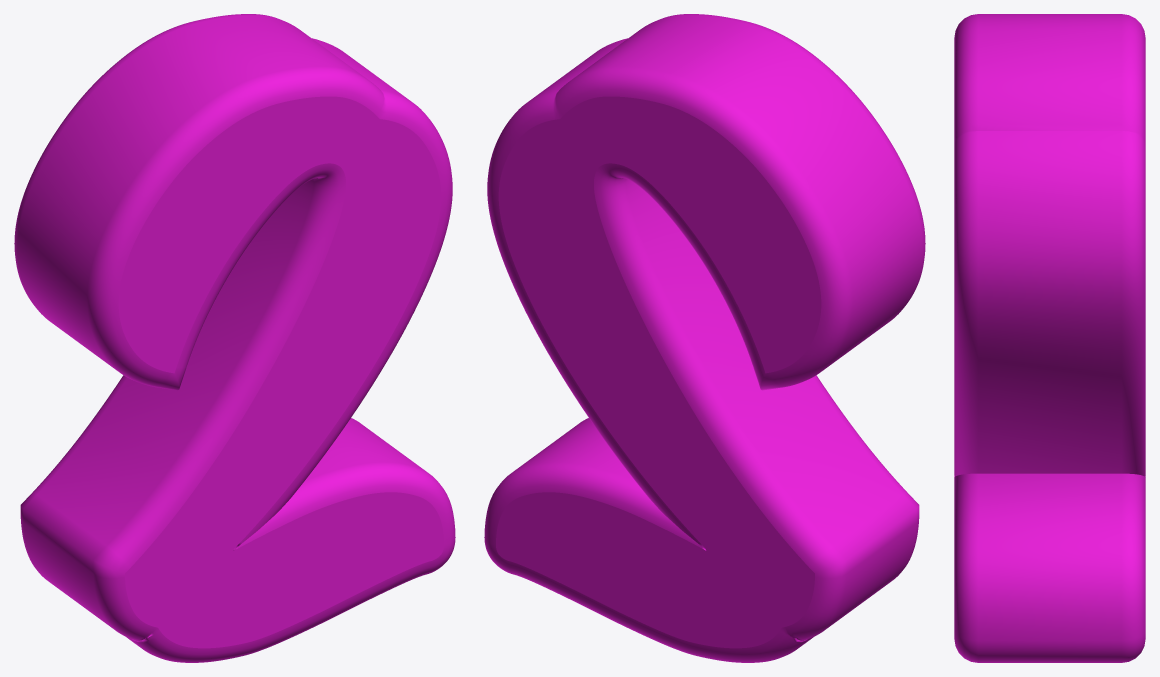
3 views of the same model, side by side, from view 1: azimuth 30°, elevation 25°; view 2: azimuth 150°, elevation 25°; view 3: azimuth 270°, elevation 25° (orthographic). The views are drawn at different scales.
Parts seen in each view (by area): view 1: Text; view 2: Text; view 3: Text.
Boxes of the visible parts, box(x1,y1,x2,y2) form: Text: box(14, 14, 455, 662); Text: box(484, 14, 925, 662); Text: box(954, 14, 1145, 662).
Size of the model in its own units: 0.364 by 0.5458 by 0.16.
